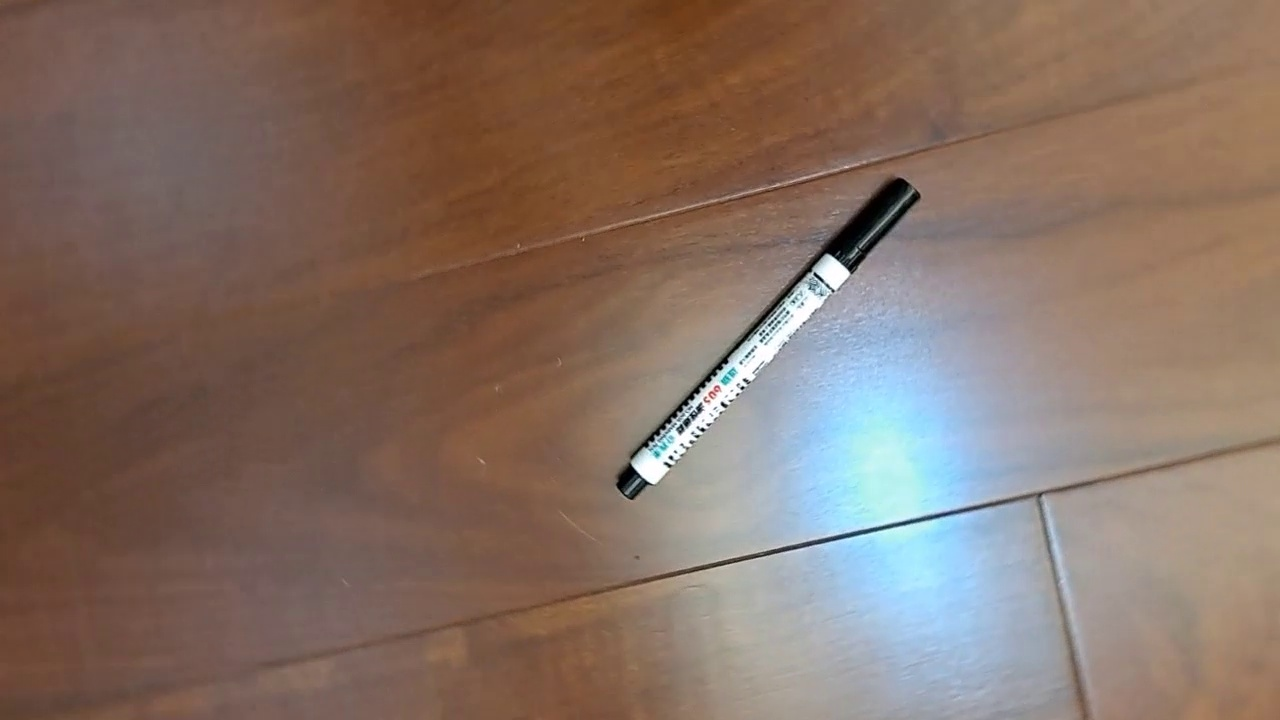pen: (615, 176, 922, 501)
